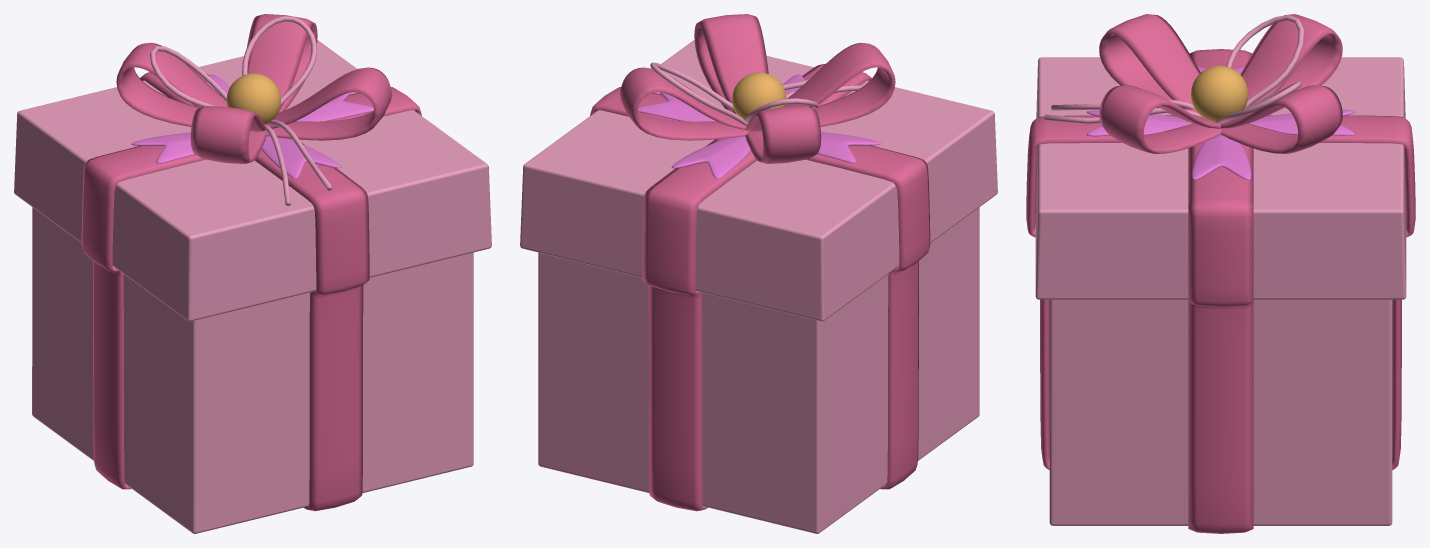
Rendered from misc-item-1.glb.
3 renders of one model, left to right at view 1: azimuth 30°, elevation 25°; view 2: azimuth 150°, elevation 25°; view 3: azimuth 270°, elevation 25°, orthographic. The views are drawn at different scales.
Visible parts, largest first — view 1: Giftbox01; view 2: Giftbox01; view 3: Giftbox01.
Part boxes in pixels (x1,y1,x2,y2): Giftbox01: (14,14,491,533); Giftbox01: (520,14,997,533); Giftbox01: (1026,14,1415,533).
Bounding box in the file's own units: 2.27 × 2.66 × 2.27.
